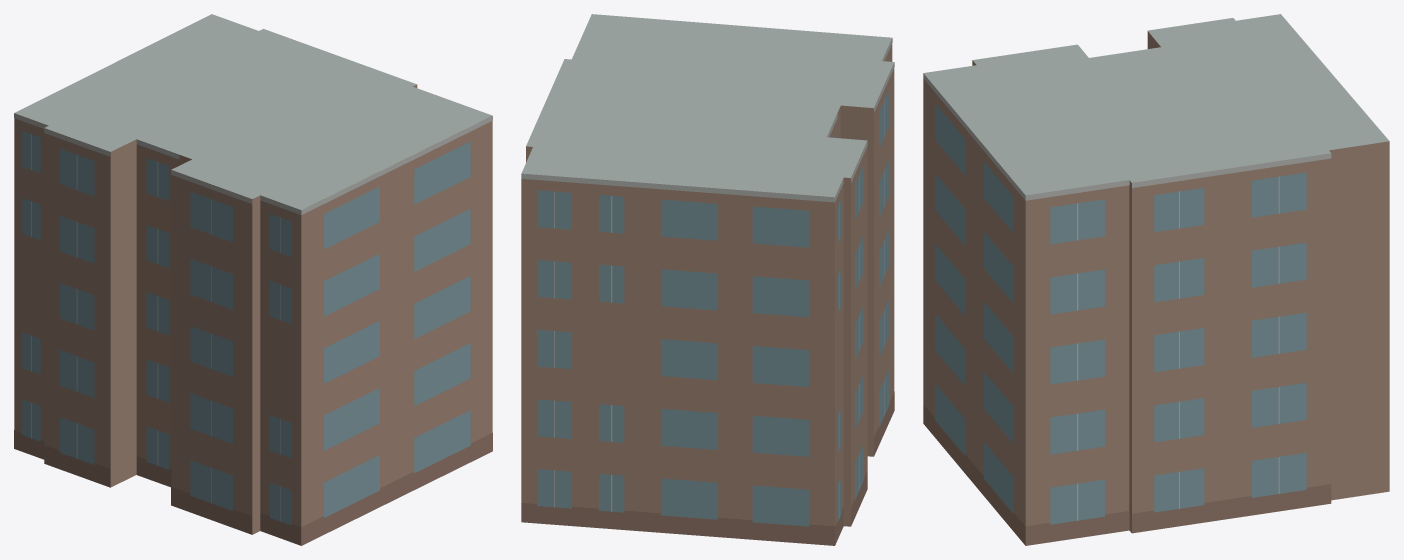
Rendered from survey-upis-32624121.glb.
3 renders of one model, left to right at view 1: azimuth 30°, elevation 25°; view 2: azimuth 150°, elevation 25°; view 3: azimuth 270°, elevation 25°, orthographic. The views are drawn at different scales.
Visible parts, largest first — view 1: survey-upis-32624121.tmp; view 2: survey-upis-32624121.tmp; view 3: survey-upis-32624121.tmp.
Boxes of the visible parts, x1,y1,x2,y2 form: survey-upis-32624121.tmp: (14, 14, 492, 545); survey-upis-32624121.tmp: (521, 14, 894, 545); survey-upis-32624121.tmp: (923, 14, 1389, 545).
Bounding box in the file's own units: 18.23 × 16.4 × 19.79.
